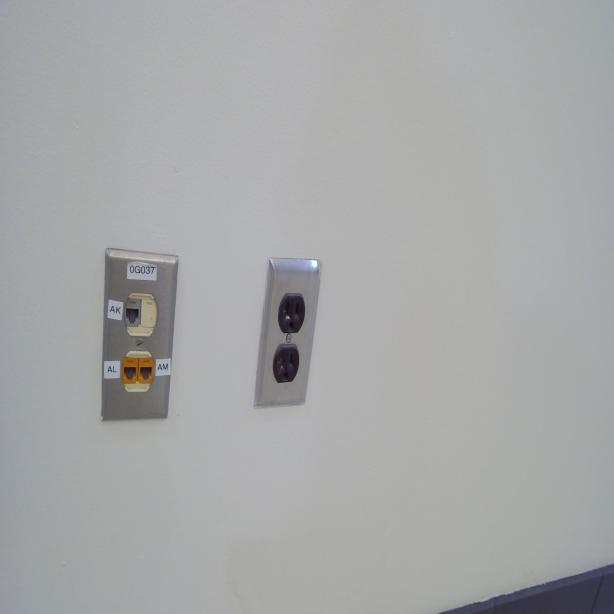typeb: (275, 346, 297, 383), (280, 298, 302, 335)
